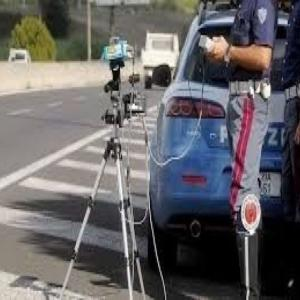Vehicle-registration-plate: (260, 172, 282, 198)
